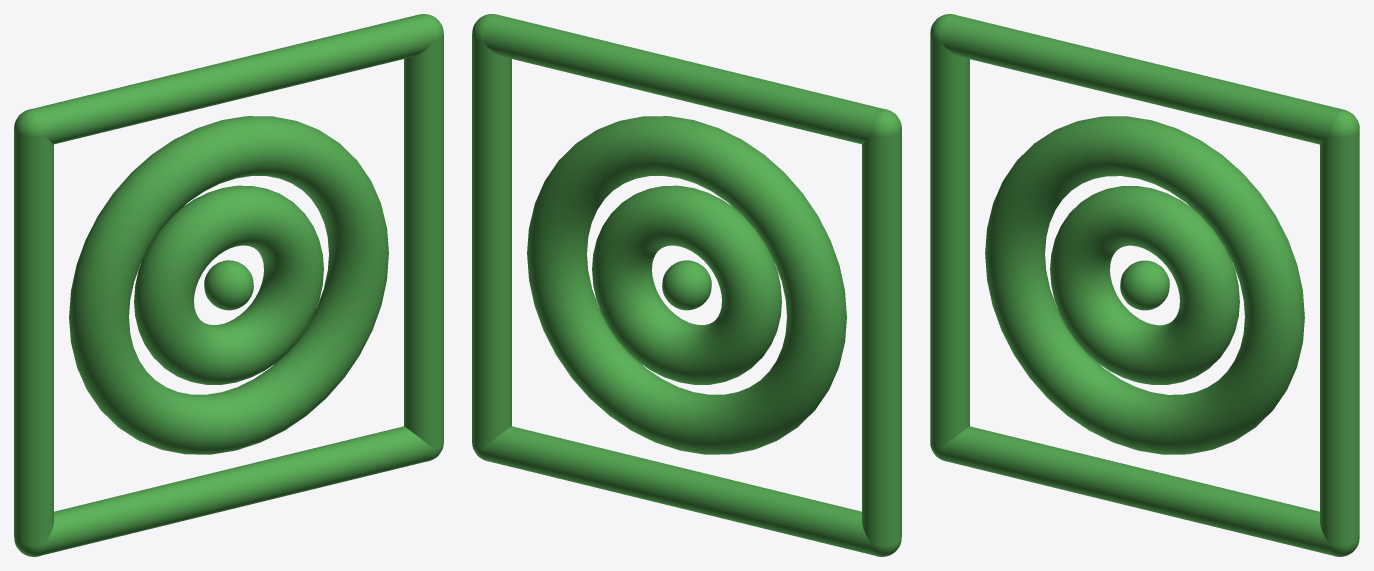
Rendered from blurrStyleBoostModel_old.fbx.
3 renders of one model, left to right at view 1: azimuth 30°, elevation 25°; view 2: azimuth 150°, elevation 25°; view 3: azimuth 330°, elevation 25°, orthographic.
Parts seen in each view (by area): view 1: pSphere24; view 2: pSphere24; view 3: pSphere24.
Part boxes in pixels (x1,y1,x2,y2): pSphere24: (14,14,443,556); pSphere24: (472,14,901,556); pSphere24: (930,14,1359,556).
Size of the model in its own units: 9.8 by 9.8 by 1.2.
